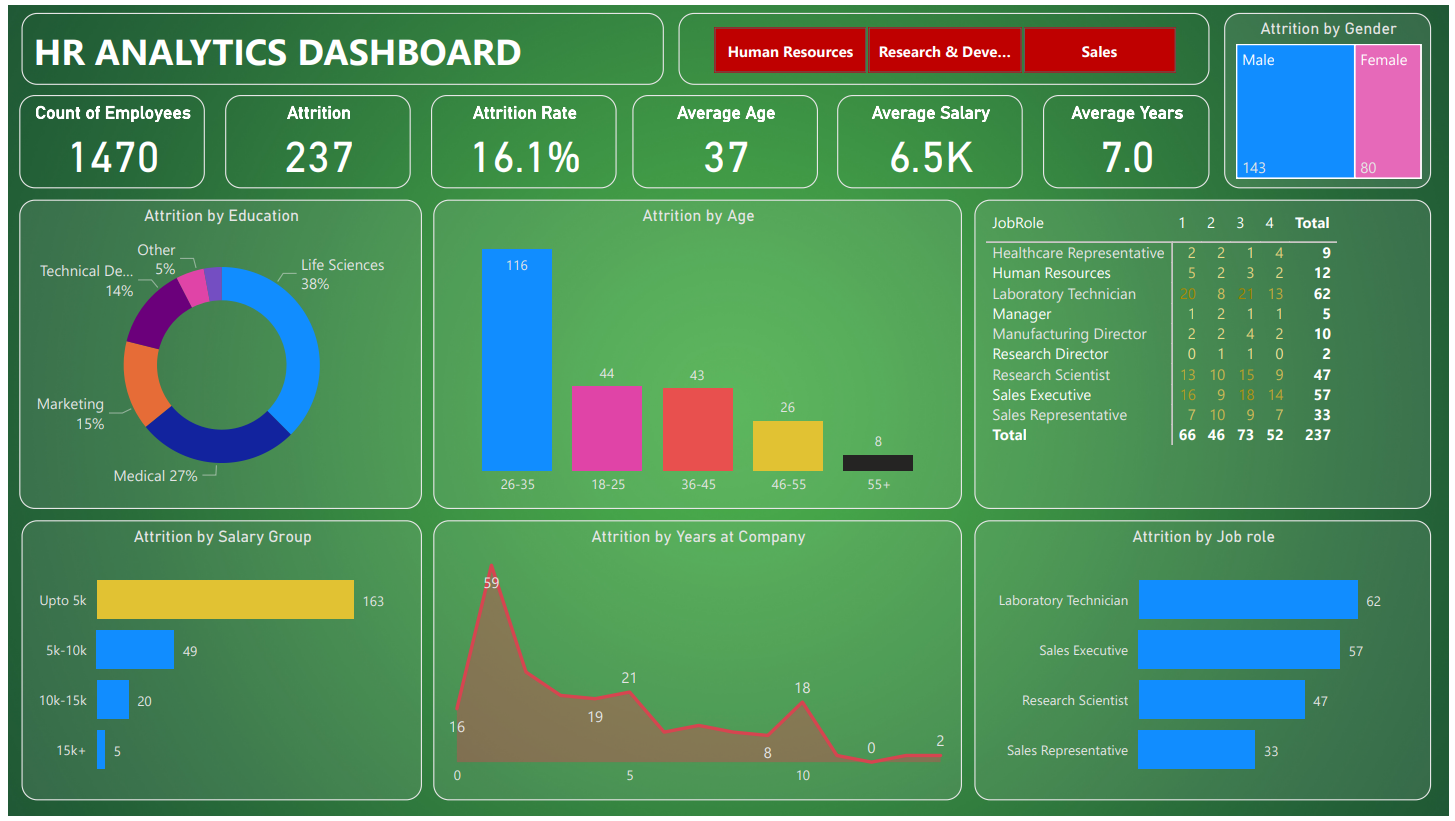

The dashboard page shown, as its layout file describes it:
{"tool":"powerbi","page":{"name":"Page 1","canvas":[1280,720],"ordinal":0},"visuals":[{"type":"card","title":"Count of Employees","fields":{"Values":["CountNonNull(HR_Analytics.EmpID)"]},"box":[10,80,165,83],"z":0},{"type":"card","title":"Attrition","fields":{"Values":["Sum(HR_Analytics.AttritionCount)"]},"box":[193,80,165,83],"z":1000},{"type":"card","title":"Attrition Rate","fields":{"Values":["HR_Analytics.AttritionRate"]},"box":[376,80,165,83],"z":2000},{"type":"card","title":"Average Age","fields":{"Values":["Avg(HR_Analytics.Age)"]},"box":[555,80,165,83],"z":3000},{"type":"card","title":"Average Salary","fields":{"Values":["Avg(HR_Analytics.MonthlyIncome)"]},"box":[737,80,165,83],"z":4000},{"type":"card","title":"Average Years","fields":{"Values":["Avg(HR_Analytics.YearsAtCompany)"]},"box":[920,80,148,83],"z":5000},{"type":"donutChart","title":"Attrition by Education","fields":{"Category":["HR_Analytics.EducationField"],"Y":["Sum(HR_Analytics.AttritionCount)"]},"box":[10,173,358,275],"z":6000},{"type":"columnChart","title":"Attrition by Age","fields":{"Category":["HR_Analytics.AgeGroup"],"Y":["Sum(HR_Analytics.AttritionCount)"]},"box":[378,173,470,275],"z":7000},{"type":"pivotTable","fields":{"Rows":["HR_Analytics.JobRole"],"Columns":["HR_Analytics.JobSatisfaction"],"Values":["Sum(HR_Analytics.AttritionCount)"]},"box":[859,173,406,275],"z":8000},{"type":"barChart","title":"Attrition by Salary Group","fields":{"Category":["HR_Analytics.SalarySlab"],"Y":["Sum(HR_Analytics.AttritionCount)"]},"box":[12,458,356,249],"z":9000},{"type":"barChart","title":"Attrition by Job role","fields":{"Category":["HR_Analytics.JobRole"],"Y":["Sum(HR_Analytics.AttritionCount)"]},"box":[859,458,406,249],"z":10000},{"type":"areaChart","title":"Attrition by Years at Company","fields":{"Category":["HR_Analytics.YearsAtCompany"],"Y":["Sum(HR_Analytics.AttritionCount)"]},"box":[378,458,470,249],"z":11000},{"type":"treemap","title":"Attrition by Gender","fields":{"Group":["HR_Analytics.Gender"],"Values":["Sum(HR_Analytics.AttritionCount)"]},"box":[1081,7,184,156],"z":12000},{"type":"slicer","fields":{"Values":["HR_Analytics.Department"]},"box":[596,7,472,64],"z":13000},{"type":"textbox","box":[12,7,571,64],"z":14000}]}

Visuals, with their boxes in screenshot pixels (x1, y1, x2, y2), scaled from the page's 1280x720 canvas onto the 1455x821 screenshot:
"Count of Employees" card: 11, 91, 199, 186
"Attrition" card: 219, 91, 407, 186
"Attrition Rate" card: 427, 91, 615, 186
"Average Age" card: 631, 91, 818, 186
"Average Salary" card: 838, 91, 1025, 186
"Average Years" card: 1046, 91, 1214, 186
"Attrition by Education" donutChart: 11, 197, 418, 511
"Attrition by Age" columnChart: 430, 197, 964, 511
pivotTable - HR_Analytics.JobRole x HR_Analytics.JobSatisfaction: 976, 197, 1438, 511
"Attrition by Salary Group" barChart: 14, 522, 418, 806
"Attrition by Job role" barChart: 976, 522, 1438, 806
"Attrition by Years at Company" areaChart: 430, 522, 964, 806
"Attrition by Gender" treemap: 1229, 8, 1438, 186
slicer - HR_Analytics.Department: 677, 8, 1214, 81
textbox: 14, 8, 663, 81
